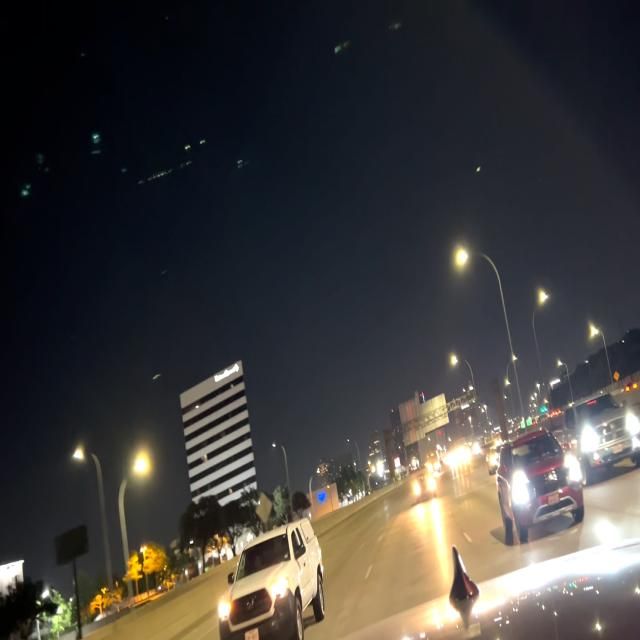back-of-sign: (396, 392, 449, 448), (256, 492, 273, 525)
